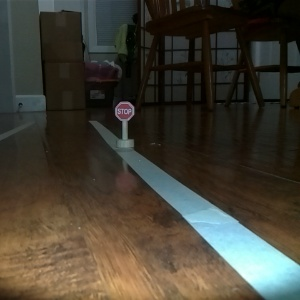stop sign: (111, 99, 137, 151)
